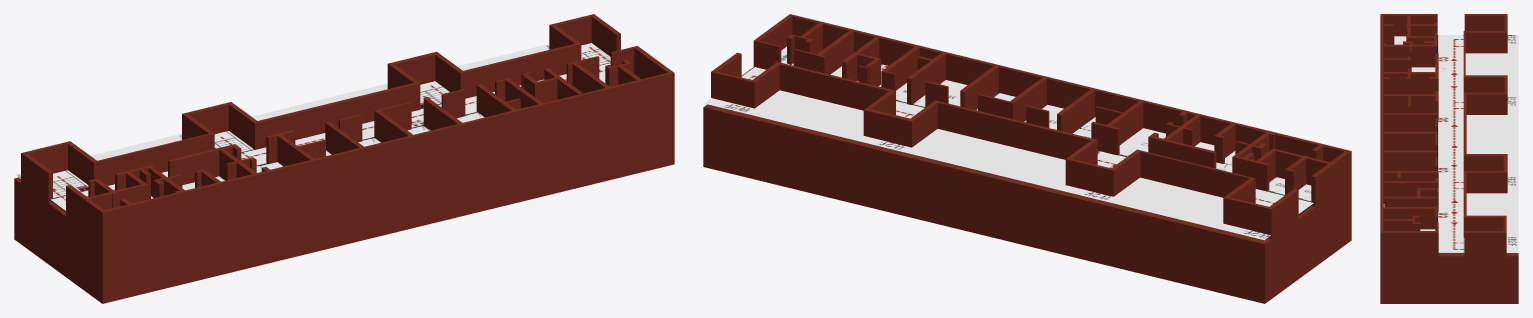
The model's file is Da-Yong-3F-cube.glb.
3 renders of one model, left to right at view 1: azimuth 30°, elevation 25°; view 2: azimuth 150°, elevation 25°; view 3: azimuth 270°, elevation 25°, orthographic. The views are drawn at different scales.
Visible parts, largest first — view 1: Cube, Plane; view 2: Cube, Plane; view 3: Cube, Plane.
Part boxes in pixels (x1,y1,x2,y2): Cube: (14, 14, 674, 303); Plane: (15, 43, 610, 211); Cube: (703, 14, 1351, 303); Plane: (704, 46, 1314, 240); Cube: (1380, 14, 1518, 303); Plane: (1383, 35, 1518, 252).
Size of the model in its own units: 29.55 by 4.5 by 7.9.
2 materials, 1 textured.
